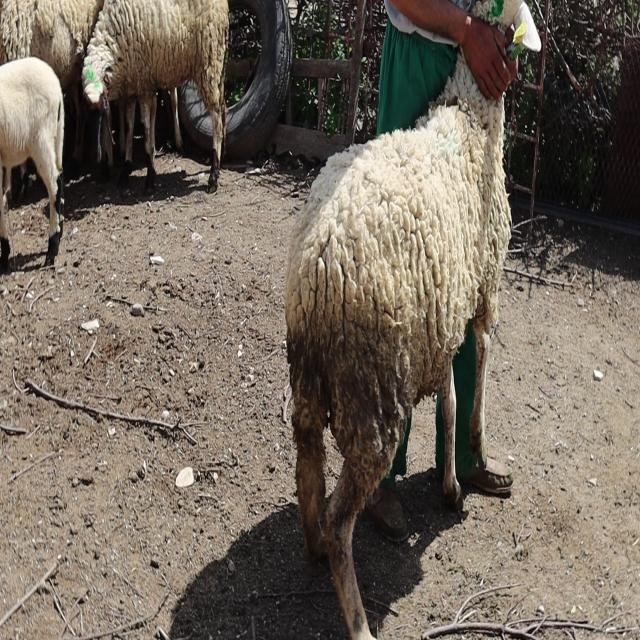Score_5: (285, 59, 511, 639)
